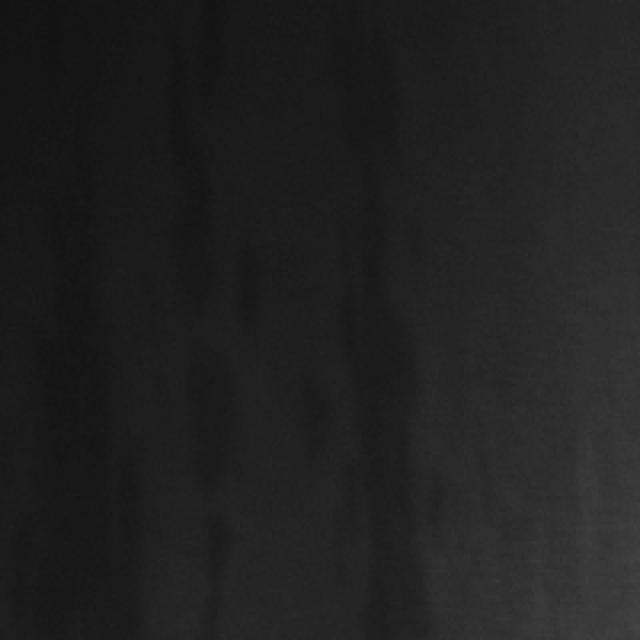inclusion: (346, 0, 435, 640), (162, 9, 229, 338), (184, 354, 242, 492), (182, 528, 240, 640)
